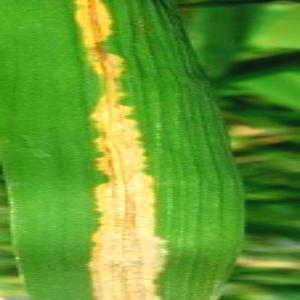2 BacterialBlight: (19, 1, 233, 300)
